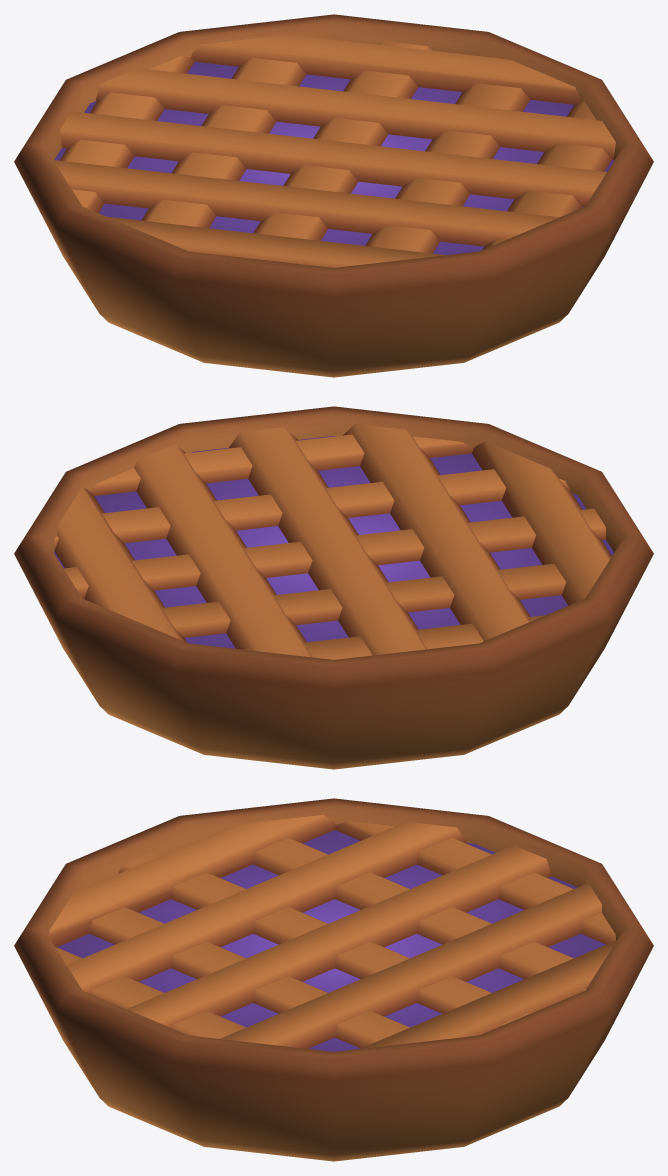
The model's file is m_AmericanPie03.fbx.
3 renders of one model, top to bottom at view 1: azimuth 30°, elevation 25°; view 2: azimuth 150°, elevation 25°; view 3: azimuth 270°, elevation 25°, orthographic.
Visible parts, largest first — view 1: m_AmericanPie03; view 2: m_AmericanPie03; view 3: m_AmericanPie03.
Boxes of the visible parts, x1,y1,x2,y2 form: m_AmericanPie03: (14,14,653,377); m_AmericanPie03: (14,406,653,769); m_AmericanPie03: (14,798,653,1161).
Size of the model in its own units: 28 by 5.91 by 28.
